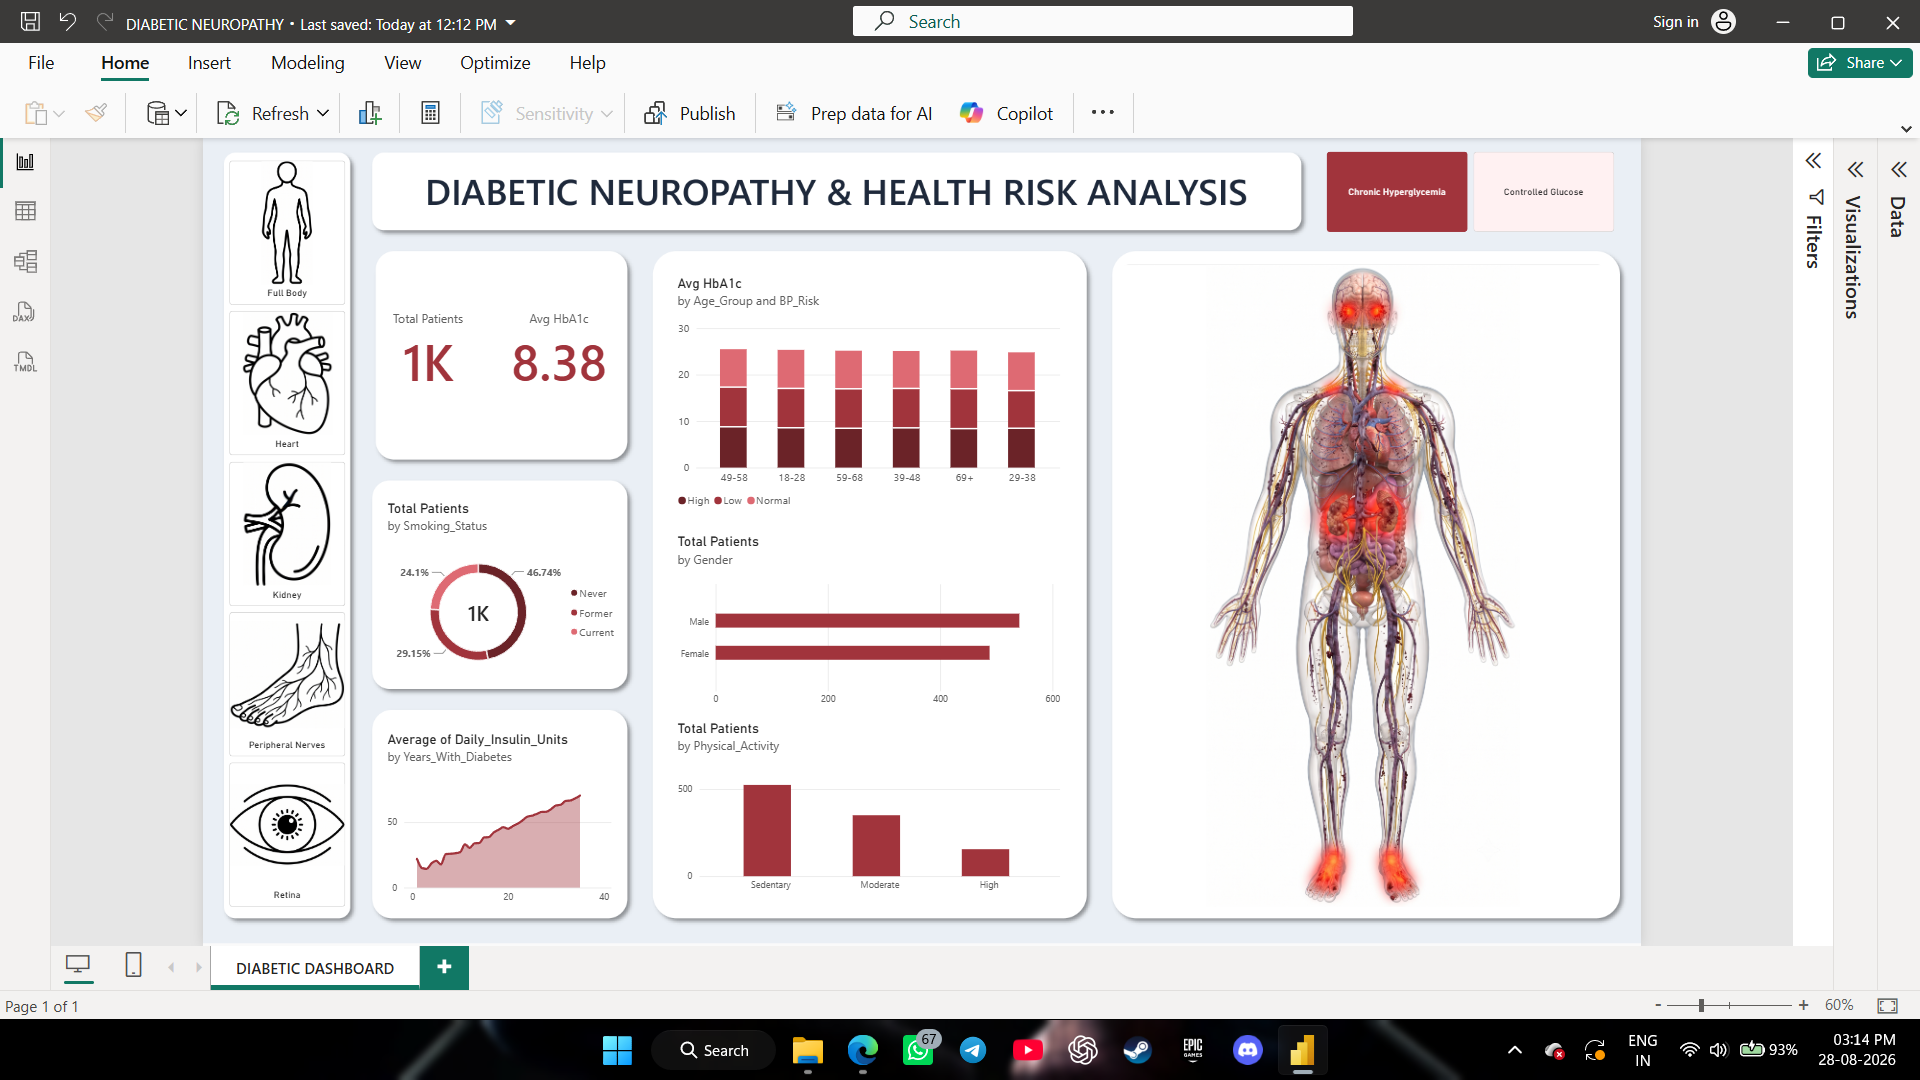

The page's visual inventory and layout, read from the dashboard file:
{"tool":"powerbi","page":{"name":"DIABETIC DASHBOARD","canvas":[1920,1080],"ordinal":0},"visuals":[{"type":"advancedSlicerVisual","fields":{"Values":["Dim_Organs.Organ_Name"]},"box":[34.4,30.8,155.6,997.1],"z":0},{"type":"cardVisual","fields":{"Data":["Dim_Organs.Total Patients","Dim_Organs.Avg HbA1c"]},"box":[217.2,143,343.8,285.9],"z":1000},{"type":"donutChart","fields":{"Category":["Fact_DiabeticPatients.Smoking_Status"],"Y":["Dim_Organs.Total Patients"]},"box":[229.8,468.7,343.8,269.6],"z":2000},{"type":"areaChart","fields":{"Category":["Fact_DiabeticPatients.Years_With_Diabetes"],"Y":["Avg(Fact_DiabeticPatients.Daily_Insulin_Units)"]},"box":[229.8,778.2,331.2,264.2],"z":3000},{"type":"columnChart","fields":{"Category":["Fact_DiabeticPatients.Age_Group"],"Y":["Dim_Organs.Avg HbA1c"],"Series":["Fact_DiabeticPatients.BP_Risk"]},"box":[617.1,168.3,542.9,345.6],"z":4000},{"type":"clusteredBarChart","fields":{"Category":["Fact_DiabeticPatients.Gender"],"Y":["Dim_Organs.Total Patients"]},"box":[617.1,513.9,542.9,264.2],"z":5000},{"type":"clusteredColumnChart","fields":{"Category":["Fact_DiabeticPatients.Physical_Activity"],"Y":["Dim_Organs.Total Patients"]},"box":[617.1,763.7,543,264],"z":6000},{"type":"advancedSlicerVisual","fields":{"Values":["Fact_DiabeticPatients.Condition_State"]},"box":[1501.9,18.5,385.2,107.4],"z":7000},{"type":"cardVisual","fields":{"Data":["Dim_Organs.Selected_Organ_Display"]},"box":[1229.6,168.5,642.6,859.3],"z":8000}]}

Visuals, with their boxes on the page's 1920x1080 design canvas (x1, y1, x2, y2). These are canvas units, not pixel positions in the 1920x1080 screenshot, which may show the page scaled, cropped or inside an application window:
advancedSlicerVisual - Dim_Organs.Organ_Name: detection(34, 31, 190, 1028)
cardVisual - Dim_Organs.Total Patients x Dim_Organs.Avg HbA1c: detection(217, 143, 561, 429)
donutChart - Fact_DiabeticPatients.Smoking_Status x Dim_Organs.Total Patients: detection(230, 469, 574, 738)
areaChart - Fact_DiabeticPatients.Years_With_Diabetes x Avg(Fact_DiabeticPatients.Daily_Insulin_Units): detection(230, 778, 561, 1042)
columnChart - Fact_DiabeticPatients.Age_Group x Dim_Organs.Avg HbA1c: detection(617, 168, 1160, 514)
clusteredBarChart - Fact_DiabeticPatients.Gender x Dim_Organs.Total Patients: detection(617, 514, 1160, 778)
clusteredColumnChart - Fact_DiabeticPatients.Physical_Activity x Dim_Organs.Total Patients: detection(617, 764, 1160, 1028)
advancedSlicerVisual - Fact_DiabeticPatients.Condition_State: detection(1502, 18, 1887, 126)
cardVisual - Dim_Organs.Selected_Organ_Display: detection(1230, 168, 1872, 1028)
